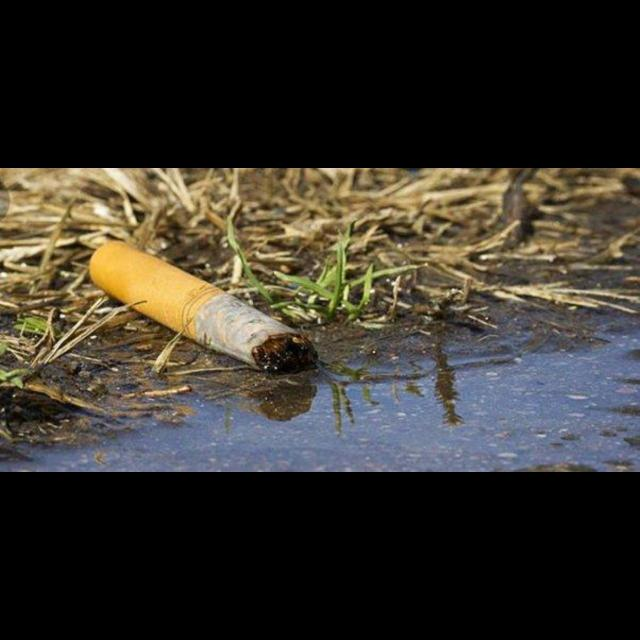cigarette: (89, 241, 319, 375)
